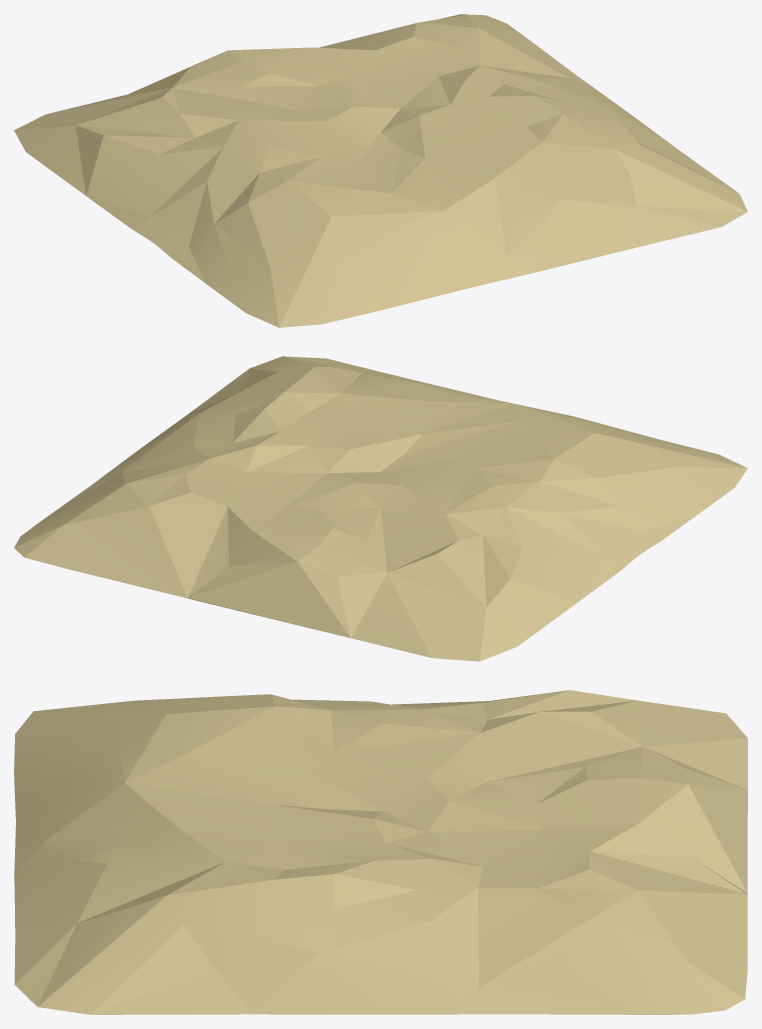
Rendered from sabbia.fbx.
The picture shows the model from 3 angles, top to bottom: view 1: azimuth 30°, elevation 25°; view 2: azimuth 150°, elevation 25°; view 3: azimuth 270°, elevation 25°; orthographic projection. The views are drawn at different scales.
Visible parts, largest first — view 1: Sand; view 2: Sand; view 3: Sand.
Part boxes in pixels (<box>): Sand: <box>14,14,747,327</box>; Sand: <box>14,356,747,661</box>; Sand: <box>14,690,747,1014</box>.
Size of the model in its own units: 289 by 31.16 by 289.
